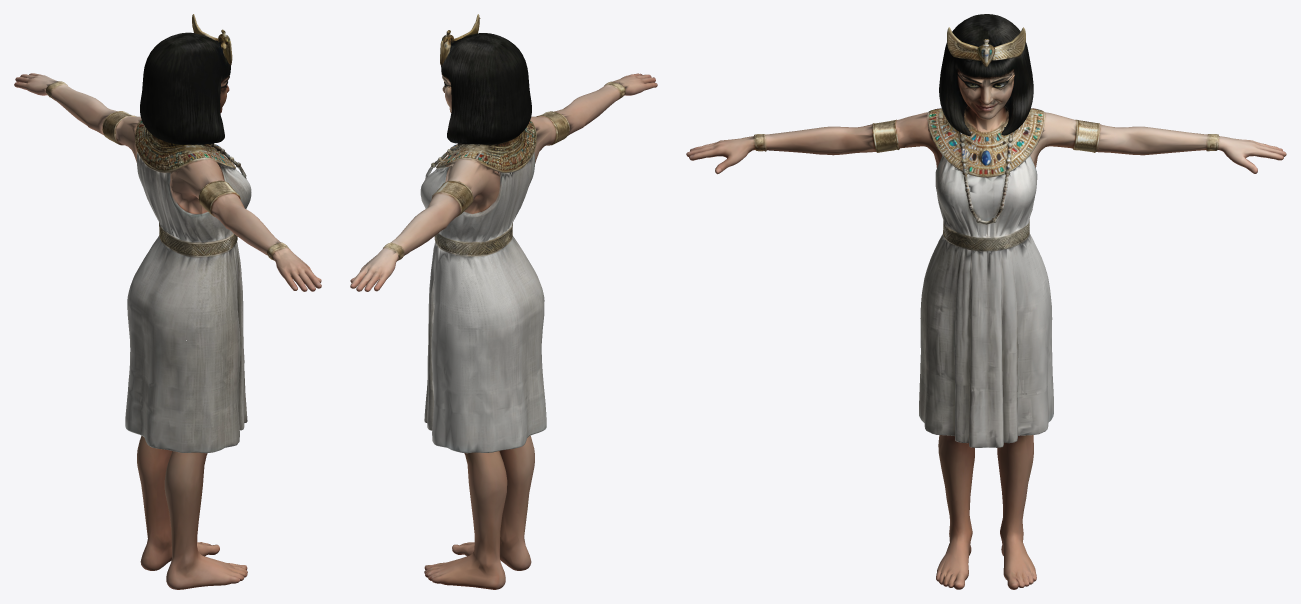
File: the-nilequeen.glb
The picture shows the model from 3 angles, left to right: view 1: azimuth 30°, elevation 25°; view 2: azimuth 150°, elevation 25°; view 3: azimuth 270°, elevation 25°; orthographic projection. The views are drawn at different scales.
Parts seen in each view (by area): view 1: 02-nilequeen; view 2: 02-nilequeen; view 3: 02-nilequeen.
Part boxes in pixels (x1,y1,x2,y2): 02-nilequeen: (14,14,321,589); 02-nilequeen: (350,14,657,589); 02-nilequeen: (686,14,1286,589).
Bounding box in the file's own units: 0.1954 × 0.9797 × 0.9618.
Materials: 1 (1 with a texture image).
